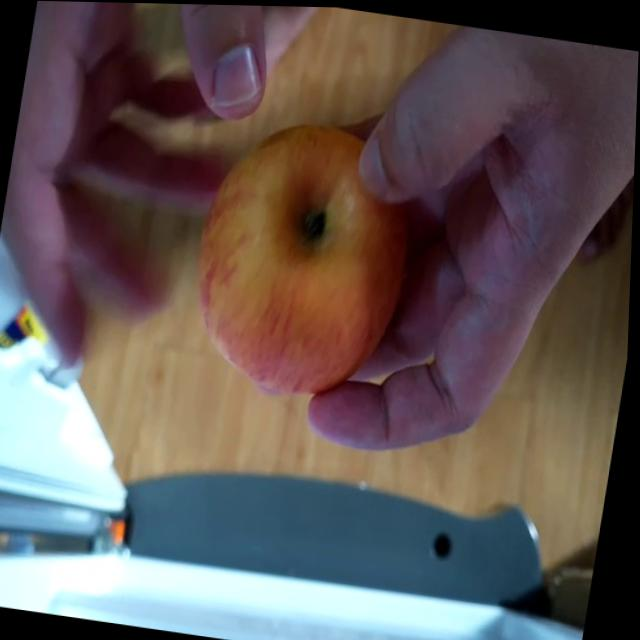apple: (183, 103, 430, 408)
